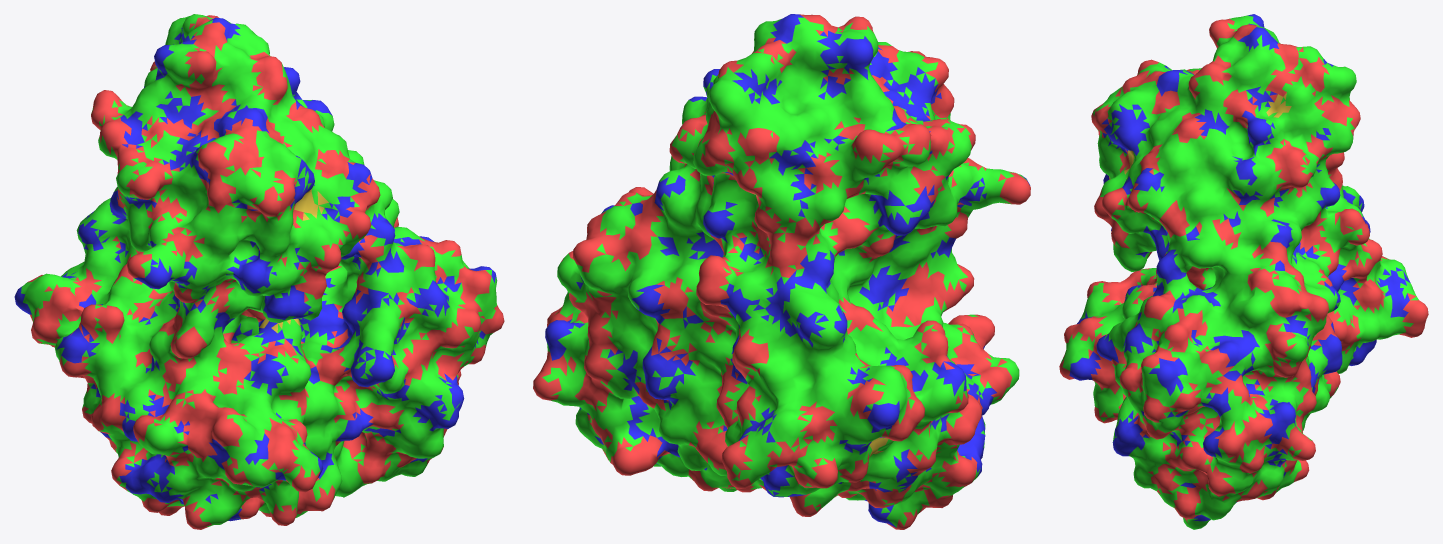
File: PBG_Deaminase_Clean_Surface.objForEric.obj
3 views of the same model, side by side, from view 1: azimuth 30°, elevation 25°; view 2: azimuth 150°, elevation 25°; view 3: azimuth 270°, elevation 25° (orthographic). The views are drawn at different scales.
Parts seen in each view (by area): view 1: grp1; view 2: grp1; view 3: grp1.
Boxes of the visible parts, box(x1,y1,x2,y2) form: grp1: box(14, 14, 504, 529); grp1: box(533, 14, 1030, 529); grp1: box(1059, 14, 1428, 529).
Bounding box in the file's own units: 52.51 × 60.69 × 46.86.
